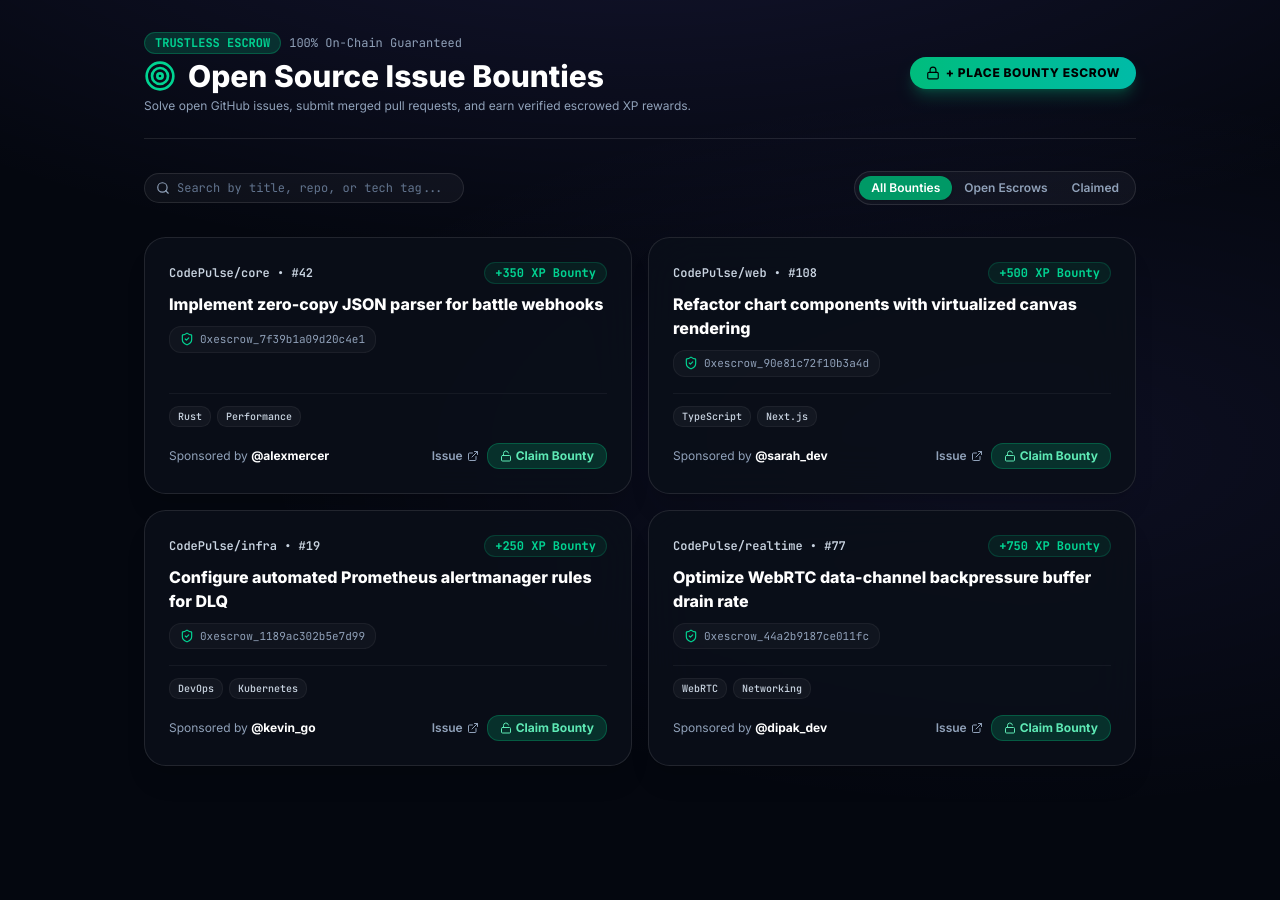
Test: BountiesPage & BountyEscrowDrawer › filters bounties by search query
Type "Rust" into the field with test id "bounties-search-input" at (304, 188), box [144, 173, 464, 203]
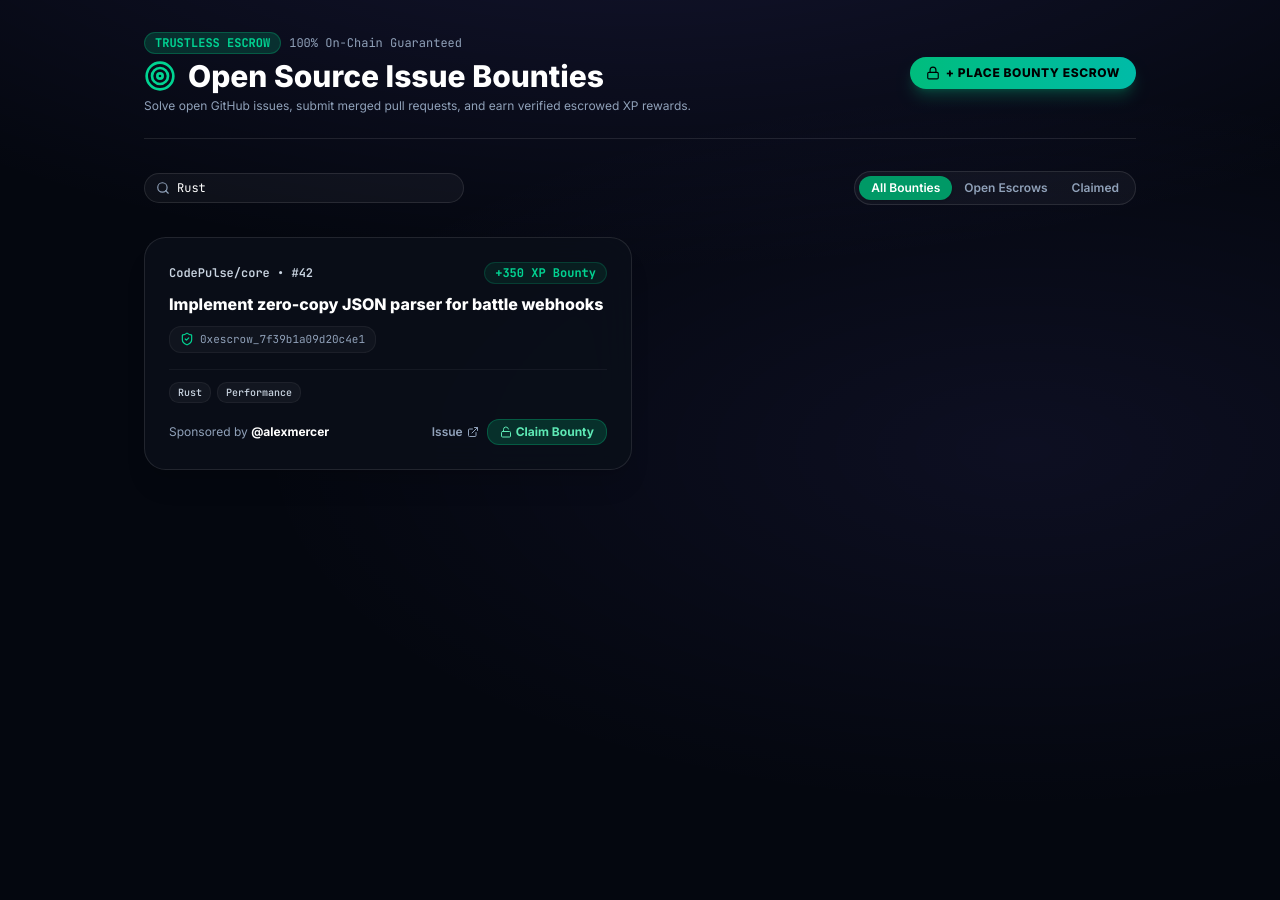
Expected: the heading "Implement zero-copy JSON parser for battle webhooks" is shown, [169, 292, 607, 316]
Expected: the heading "Refactor chart components with virtualized canvas rendering" is gone
